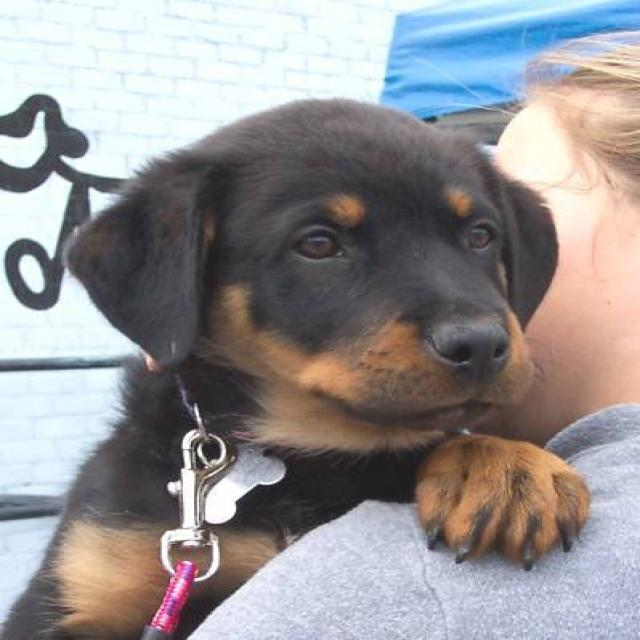dog: (0, 94, 592, 638)
